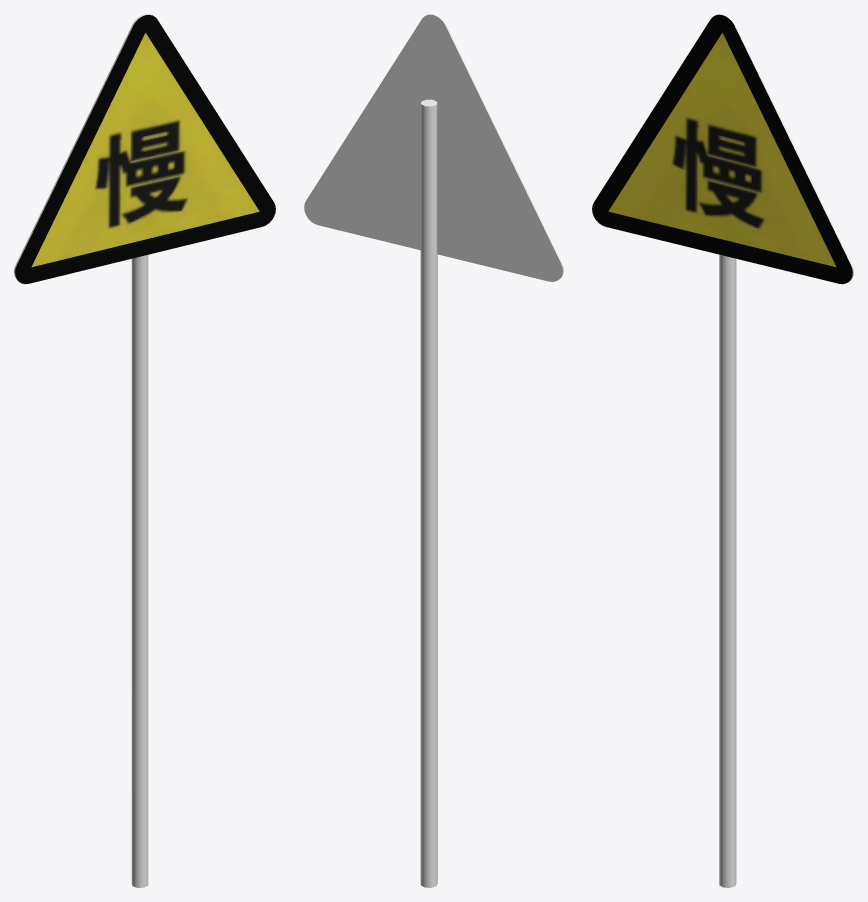
3 views of the same model, side by side, from view 1: azimuth 30°, elevation 25°; view 2: azimuth 150°, elevation 25°; view 3: azimuth 330°, elevation 25° (orthographic).
Parts seen in each view (by area): view 1: W11; view 2: W11; view 3: W11.
Part boxes in pixels (left/top/right/bottom): W11: left=14, top=14, right=275, bottom=887; W11: left=304, top=14, right=563, bottom=887; W11: left=592, top=14, right=853, bottom=887.
Bounding box in the file's own units: 5.68 × 18.17 × 0.3685.
4 materials, 1 textured.
